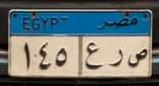1: (23, 40, 33, 71)
4: (37, 42, 52, 72)
5: (53, 47, 70, 69)
ain: (84, 40, 103, 73)
raa: (106, 47, 124, 71)
saad: (126, 43, 148, 70)
